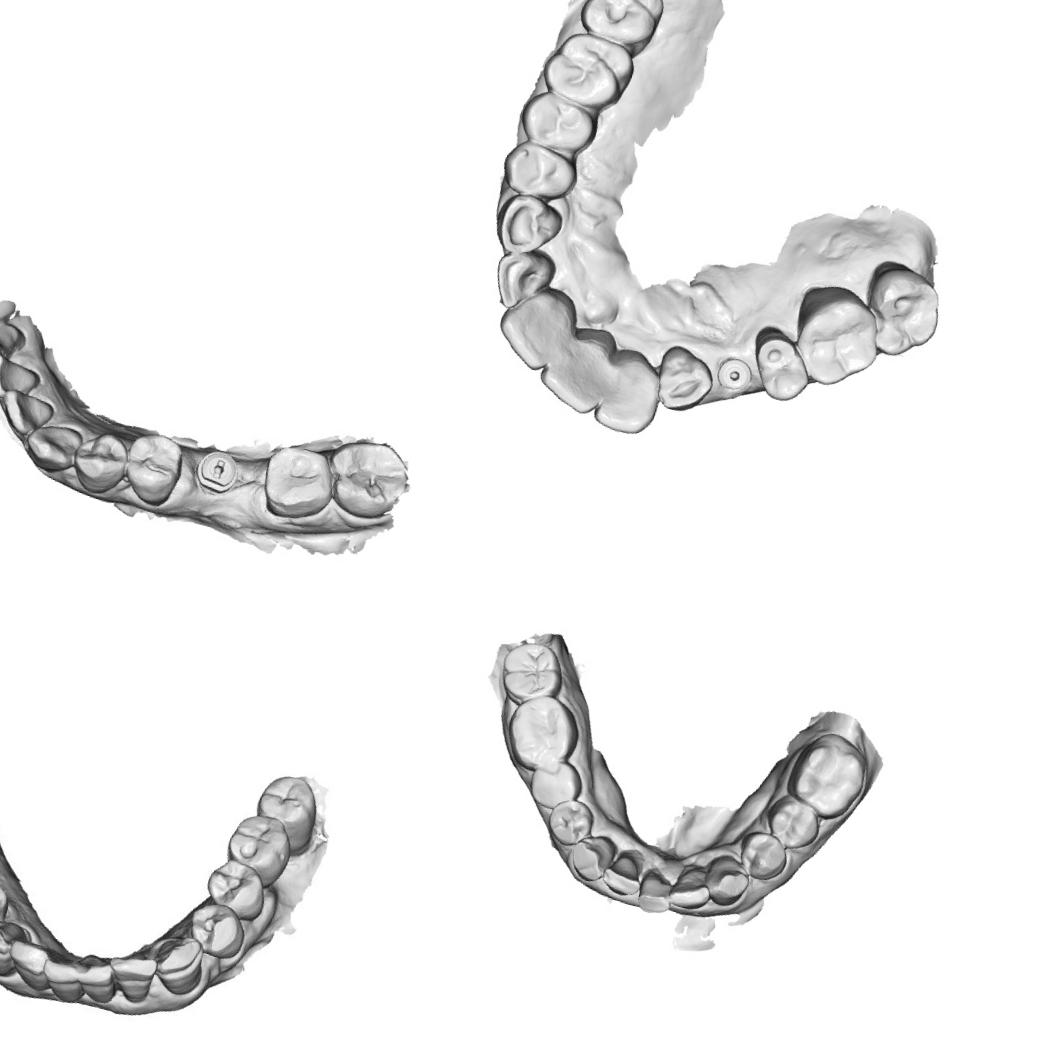canine: (489, 188, 569, 264), (648, 342, 720, 420), (19, 412, 84, 480), (150, 931, 210, 996), (698, 850, 754, 912), (565, 828, 619, 886), (0, 914, 28, 973)
implant: (714, 355, 754, 396)
implant_minus: (191, 446, 243, 497)
incisor: (489, 280, 577, 378), (526, 327, 616, 420), (587, 351, 667, 440), (485, 246, 559, 320), (0, 386, 61, 447), (70, 950, 126, 1012), (0, 350, 49, 409), (666, 858, 717, 914), (109, 949, 159, 1002), (598, 846, 648, 899), (3, 940, 54, 990), (633, 868, 678, 918), (43, 960, 84, 1006), (0, 313, 28, 365)
molar: (780, 278, 895, 397), (848, 252, 952, 368), (534, 25, 641, 119), (780, 724, 874, 827), (498, 686, 587, 779), (331, 434, 411, 520), (254, 438, 336, 520), (220, 805, 298, 886), (493, 635, 570, 713), (250, 768, 322, 846), (571, 0, 668, 57)
premolar: (510, 88, 600, 162), (740, 323, 818, 407), (496, 138, 586, 209), (116, 426, 188, 510), (183, 898, 254, 964), (68, 426, 130, 497), (761, 788, 826, 854), (523, 752, 587, 816), (202, 857, 268, 916), (732, 826, 792, 885), (542, 793, 598, 851)
